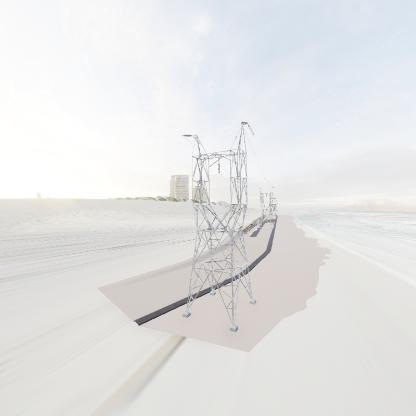tower: (179, 114, 255, 338)
